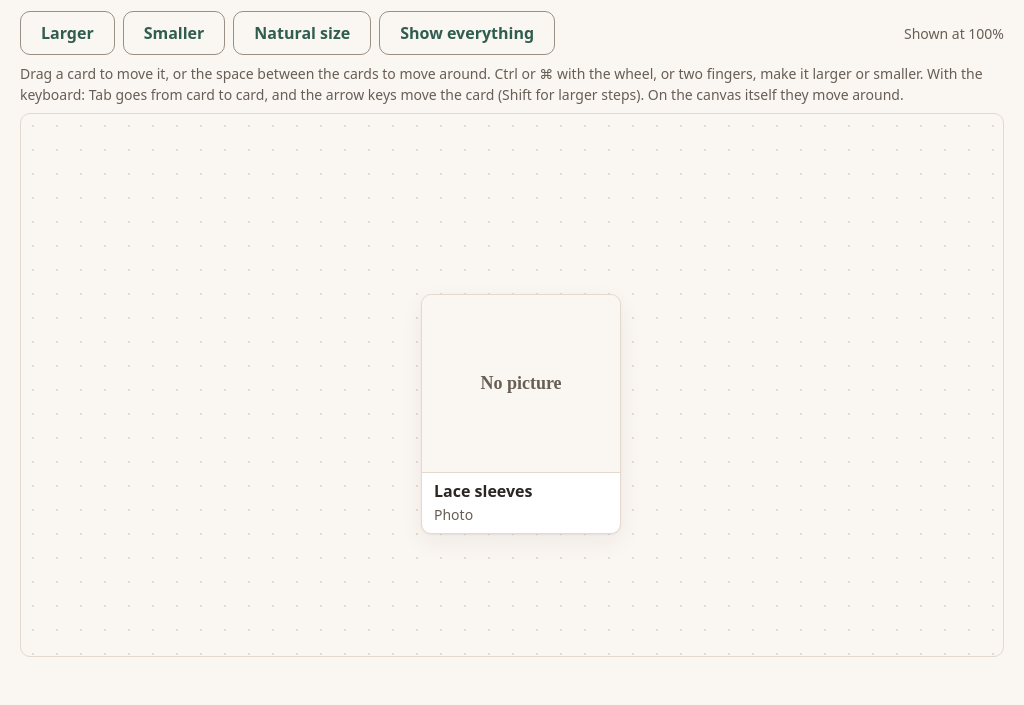
Test: pressing a card › opens the idea when it did not move, sends no place, and returns to the canvas with its filters
(page scrolled)
Click the link with aria-label "Lace sleeves,": (521, 414) [421,294,621,534]
(page scrolled)
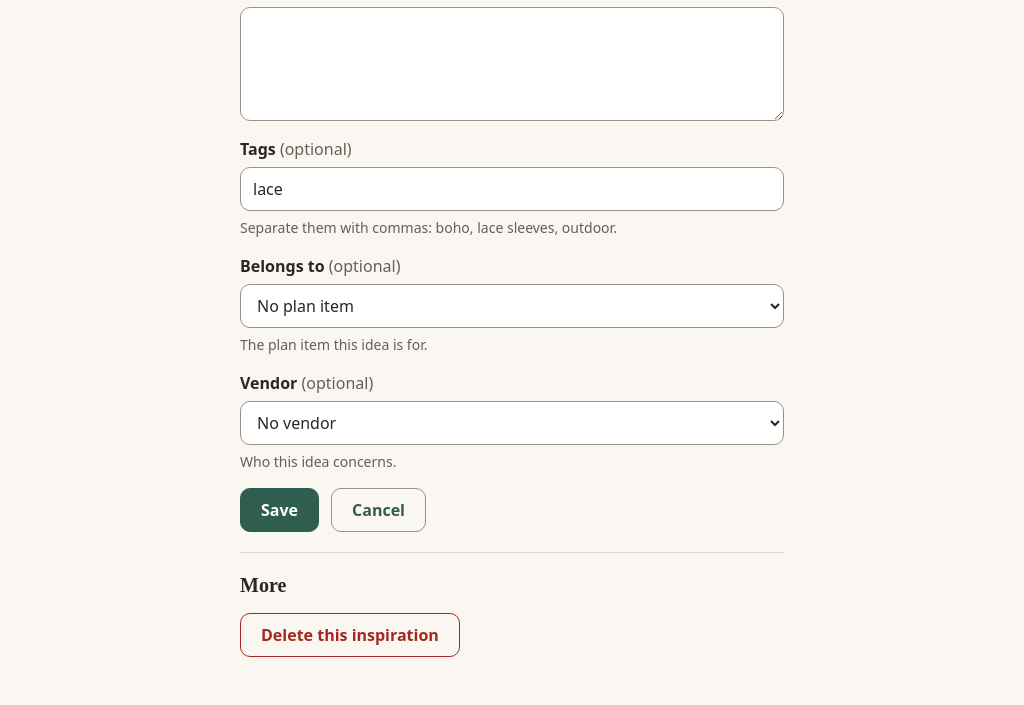
Click the link "Cancel": (378, 510) [331,488,426,532]
(page scrolled)
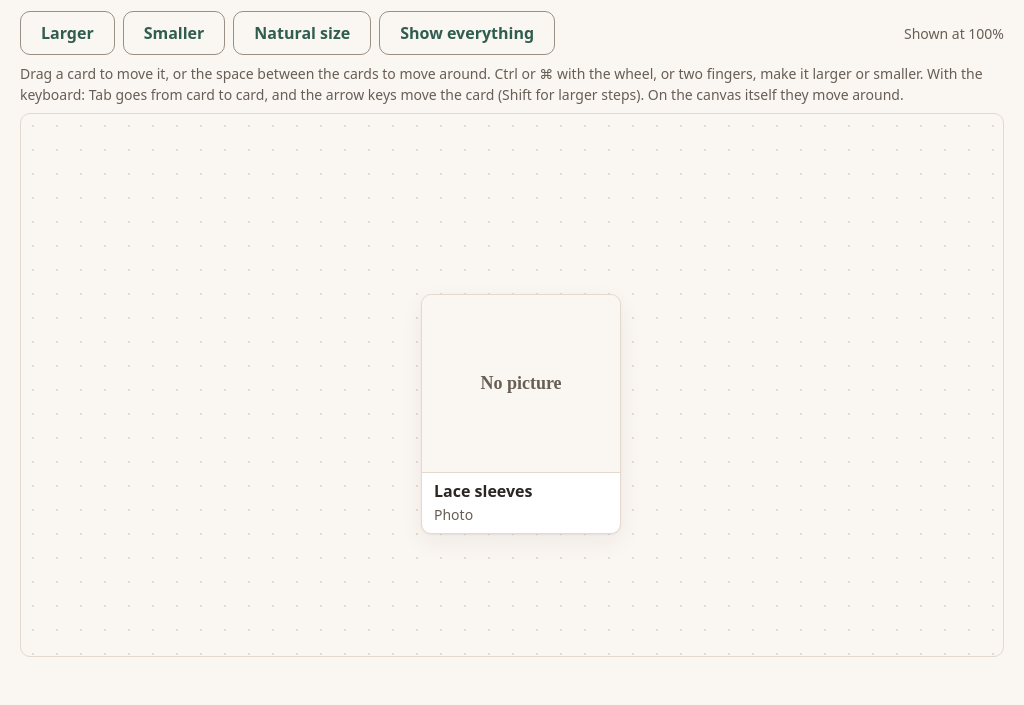
expect the element named "Canvas of inspirations" is shown: met
